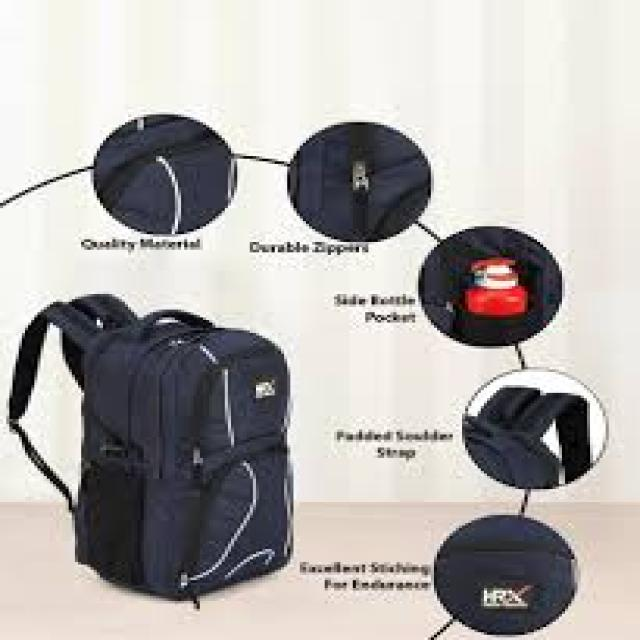backpack: (3, 292, 294, 606)
